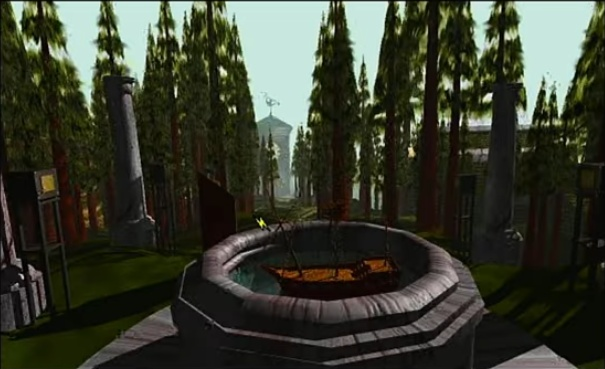Keep: (255, 213, 270, 232)
